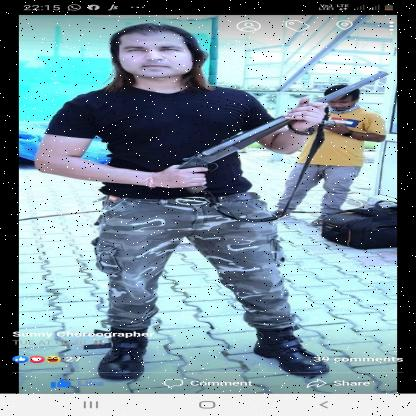rifle: (168, 70, 392, 195)
